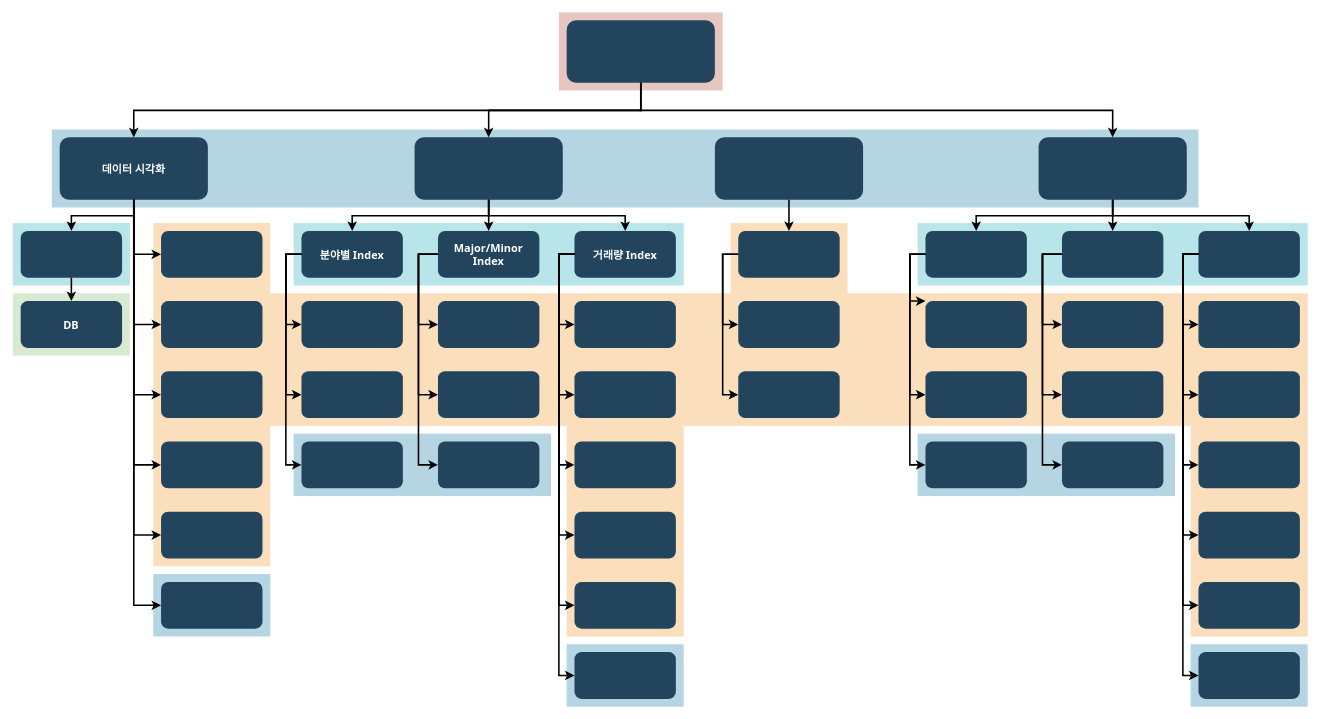
Some shapes in this 1321 by 719 pixel diagram are drawn without their labels. Each missing label, with the box of its shape:
Our Index: (414, 137, 562, 199)
가상화폐 데이터 분석 솔루션: (566, 20, 714, 82)
업비트 API: (20, 230, 122, 277)
